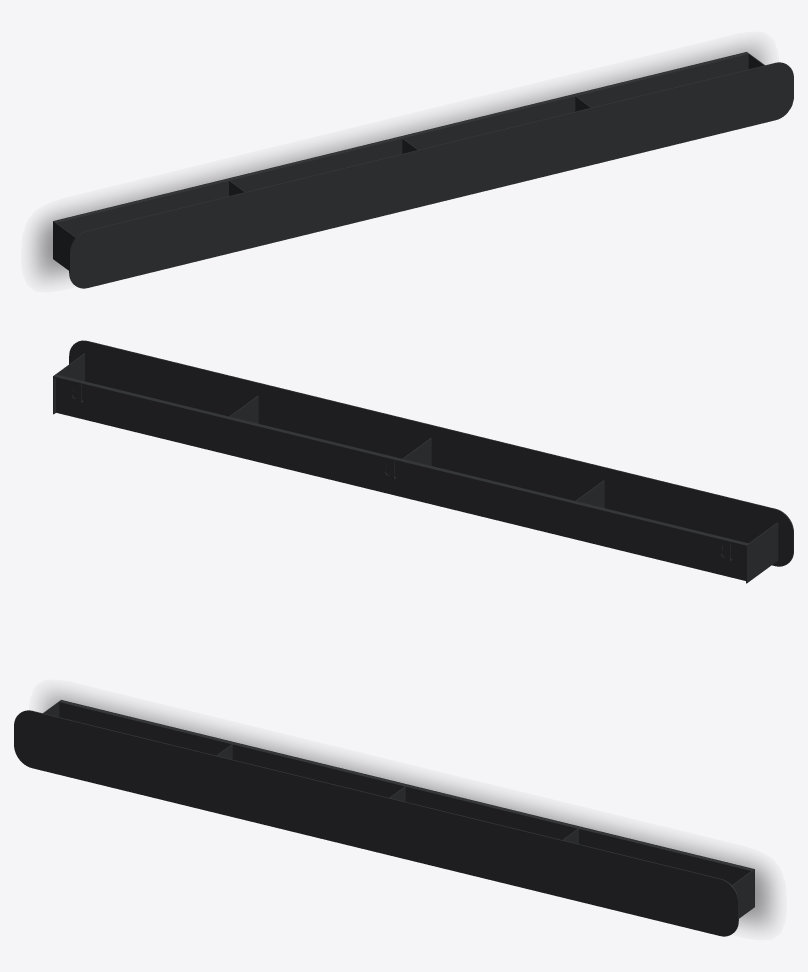
Rendered from radius-mono.dac0d0b009.ar.glb.
3 renders of one model, top to bottom at view 1: azimuth 30°, elevation 25°; view 2: azimuth 150°, elevation 25°; view 3: azimuth 330°, elevation 25°, orthographic.
Parts seen in each view (by area): view 1: NAUO1, object 2; view 2: NAUO1; view 3: NAUO1, object 2.
Boxes of the visible parts, x1=… form: NAUO1: x1=53, y1=52, x2=793, y2=288; object 2: x1=33, y1=45, x2=766, y2=278; NAUO1: x1=53, y1=340, x2=793, y2=583; NAUO1: x1=14, y1=700, x2=754, y2=936; object 2: x1=41, y1=693, x2=774, y2=926.
Size of the model in its own units: 1.28 by 0.17 by 0.092.
Materials: 2 (1 with a texture image).
